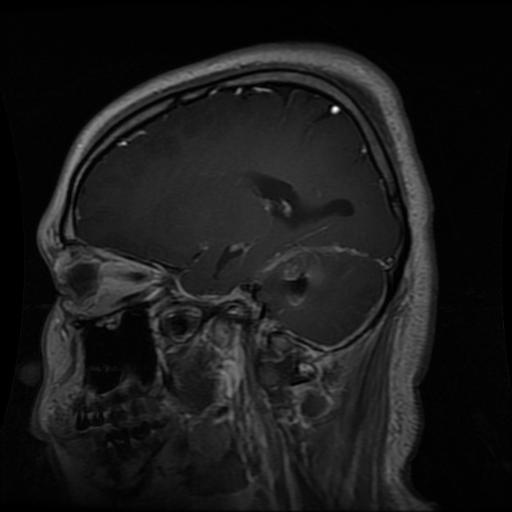Gliomia_tumour: (282, 252, 325, 307)
